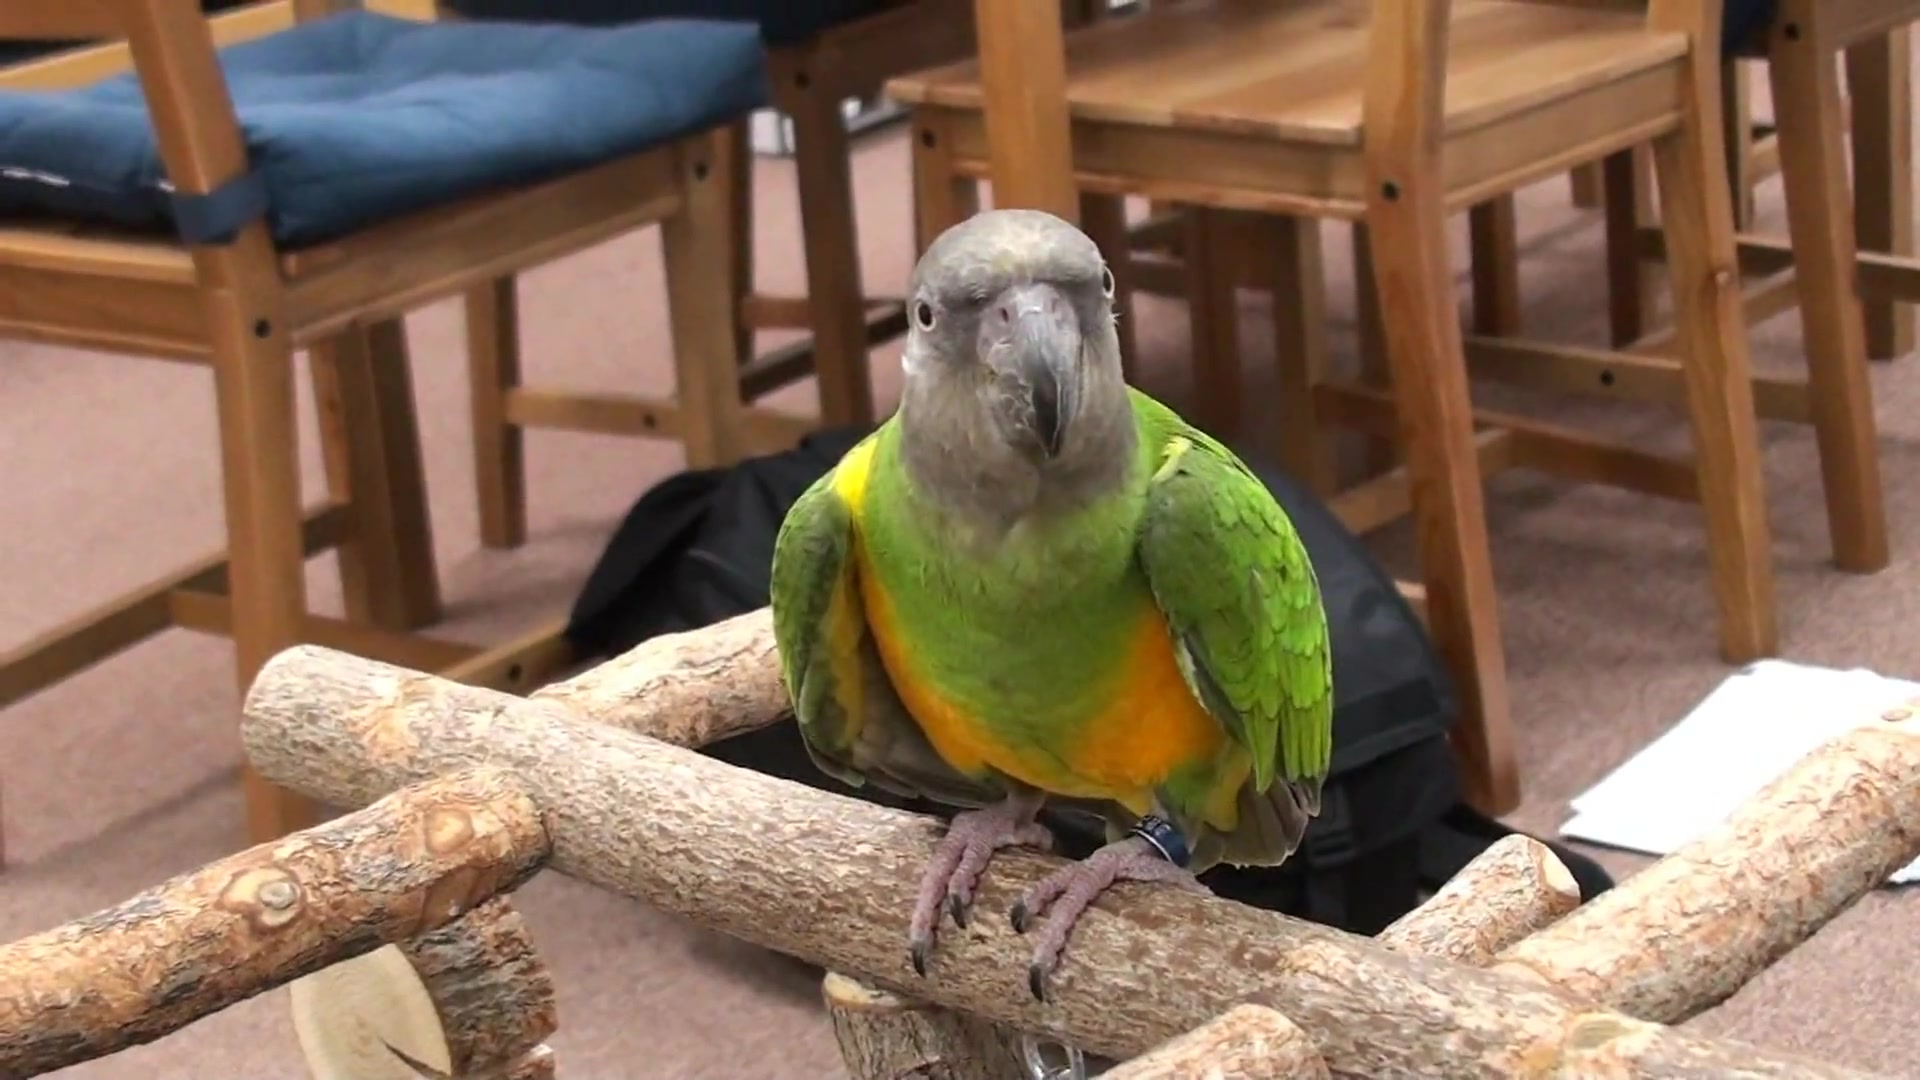bird: (769, 208, 1337, 1007)
